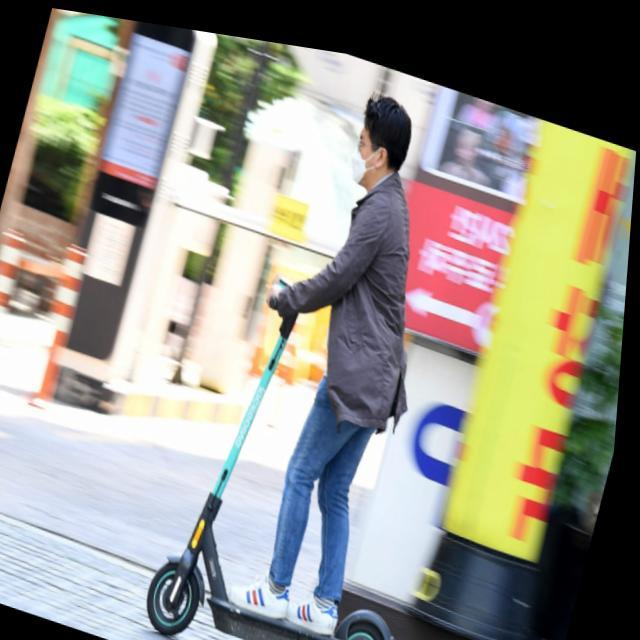Nonhelmet: (339, 80, 415, 185)
